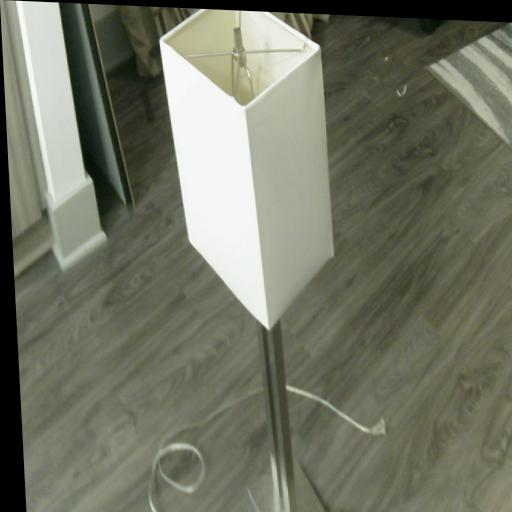lamp: (158, 7, 350, 512)
